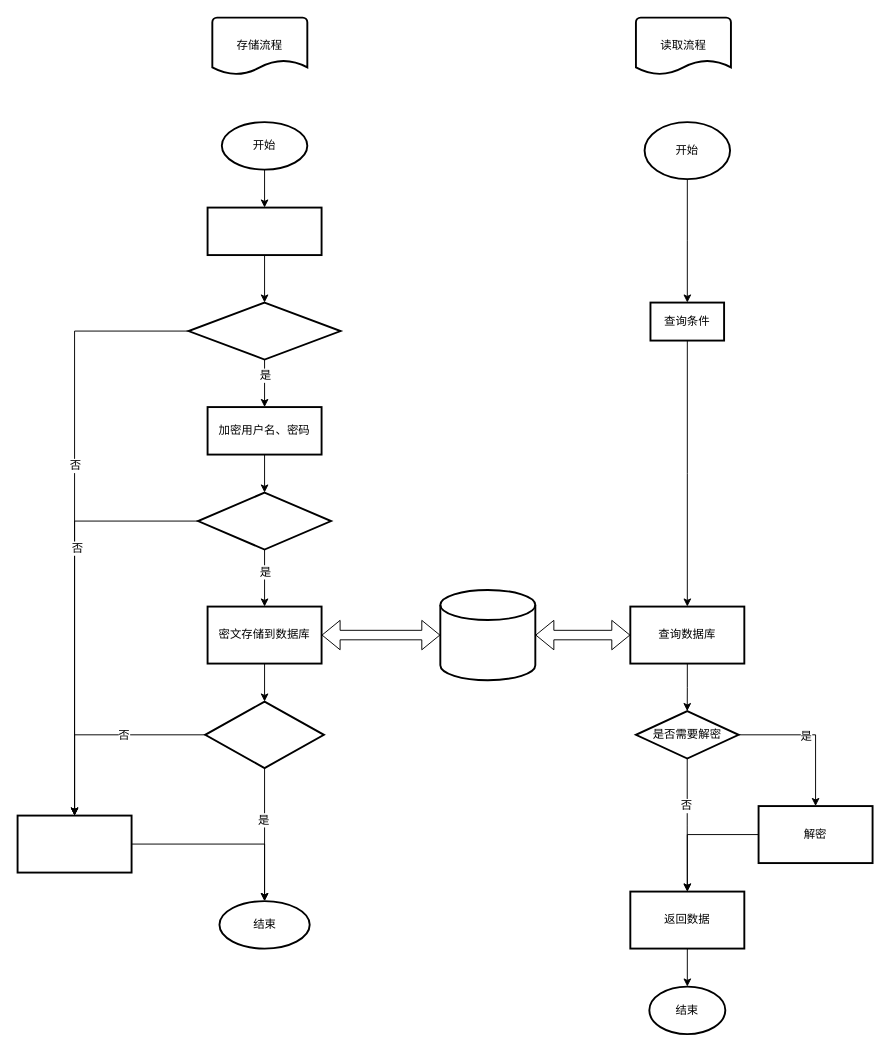
This 889x1051 diagram has some shape labels left out. The centre of each missing label's shape, as x and y in pixels:
"h2database" belongs at [487,635].
"加密是否成功" belongs at [264,520].
"参数是否合法" belongs at [264,330].
"存储是否成功" belongs at [264,734].
"提示信息" belongs at [74,843].
"输入要存储的数据" belongs at [264,231].
